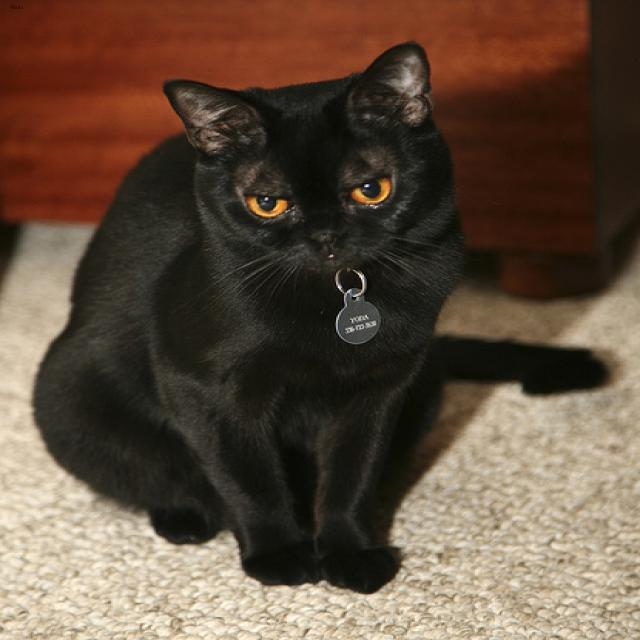Bombay: (160, 40, 438, 269)
